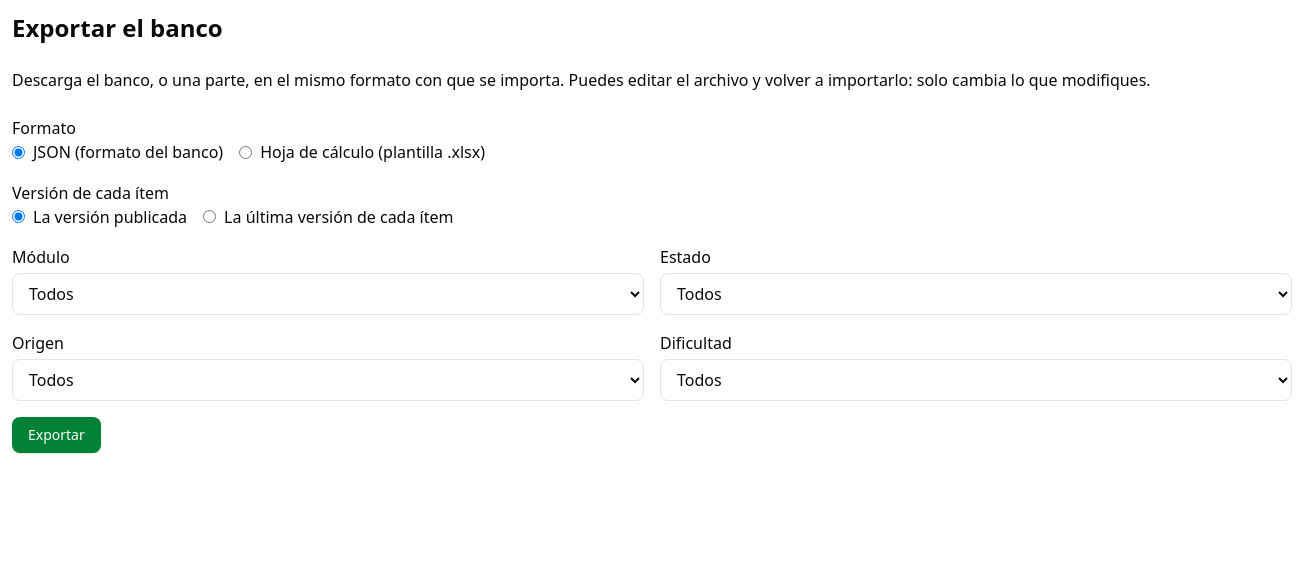
Test: exportación del banco › avisa cuántos ítems no caben en la plantilla
Click the radio button labelled "Hoja de cálculo (plantilla .xlsx)" at (246, 152), box [239,146,252,158]
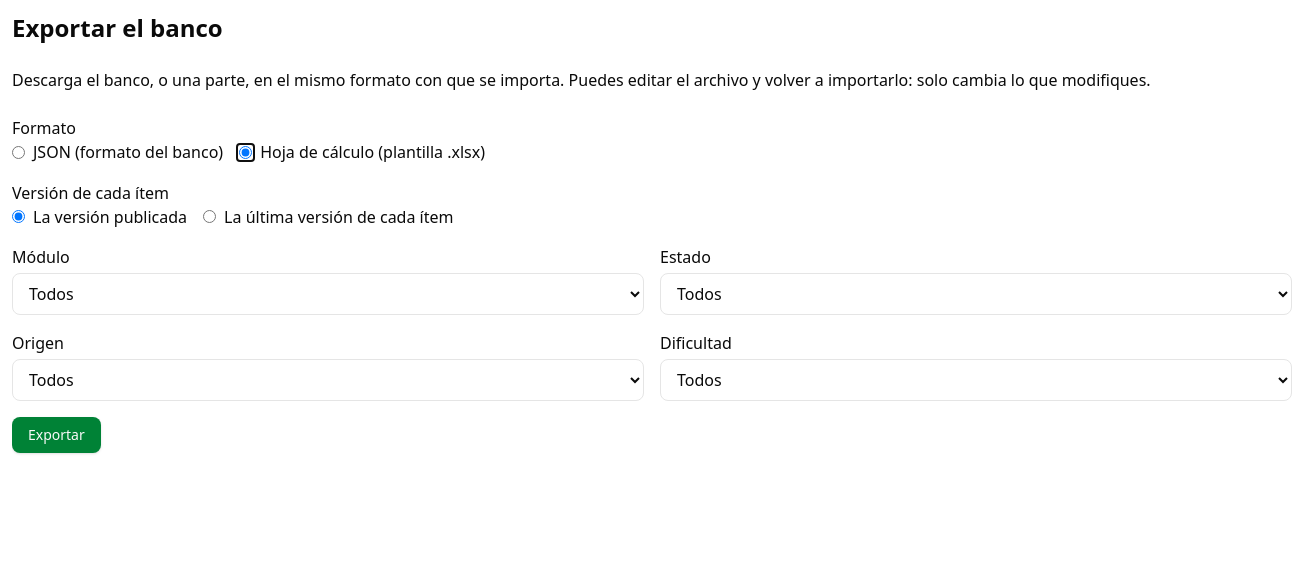
Click the button "Exportar" at (56, 435), box [12,417,101,453]
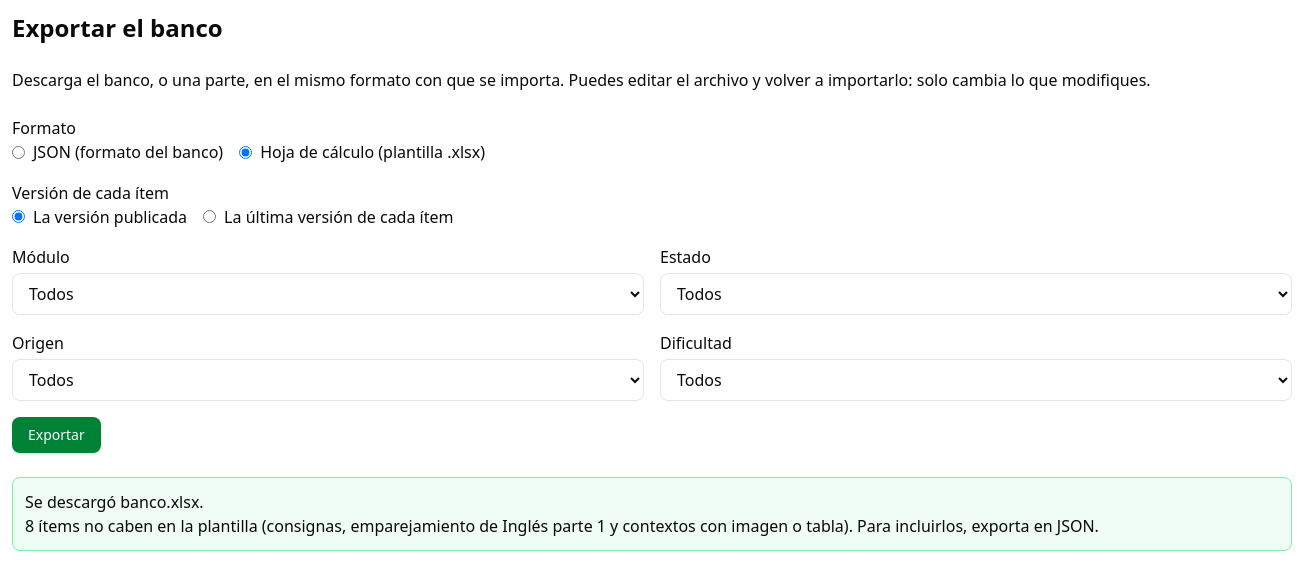
Now the message shows "Se descargó banco.xlsx.", box [25,491,204,513]
Now the message shows "8 ítems no caben en la plantilla (consignas, emparejamiento de Inglés parte 1 y contextos con imagen o tabla). Para incluirlos, exporta en JSON.", box [25,515,1099,537]
